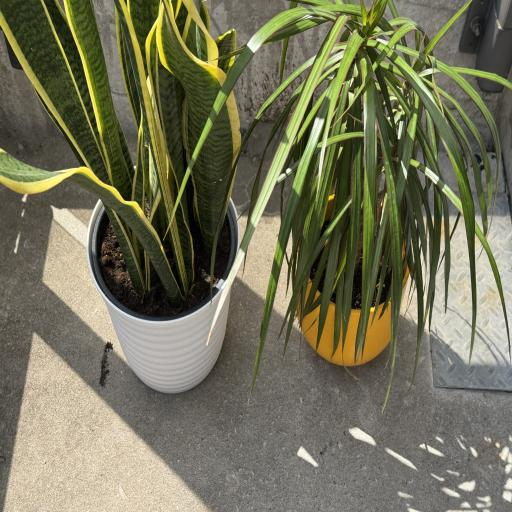Plant Pot: (87, 161, 241, 397), (296, 190, 410, 365)
